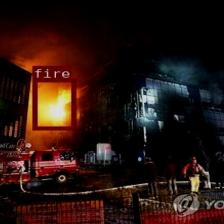fire: (32, 78, 74, 130)
